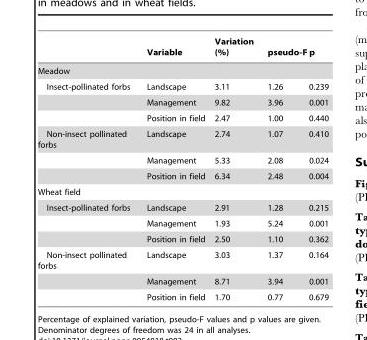table: (36, 36, 327, 301)
table column: (36, 36, 137, 301), (137, 36, 209, 301), (209, 36, 259, 301), (259, 36, 307, 301), (307, 36, 327, 301)
table column header: (36, 36, 327, 61)
table projected row header: (36, 61, 327, 78), (36, 183, 327, 199)
table row: (36, 125, 327, 152), (36, 246, 327, 273), (36, 36, 327, 61), (36, 61, 327, 78), (36, 78, 327, 94), (36, 94, 327, 110), (36, 152, 327, 168), (36, 183, 327, 199), (36, 199, 327, 215), (36, 215, 327, 231), (36, 273, 327, 289), (36, 110, 327, 125), (36, 168, 327, 183), (36, 231, 327, 246), (36, 289, 327, 301)
table spanning cell: (36, 125, 137, 183), (36, 246, 137, 301), (36, 78, 137, 125), (36, 199, 137, 246)
